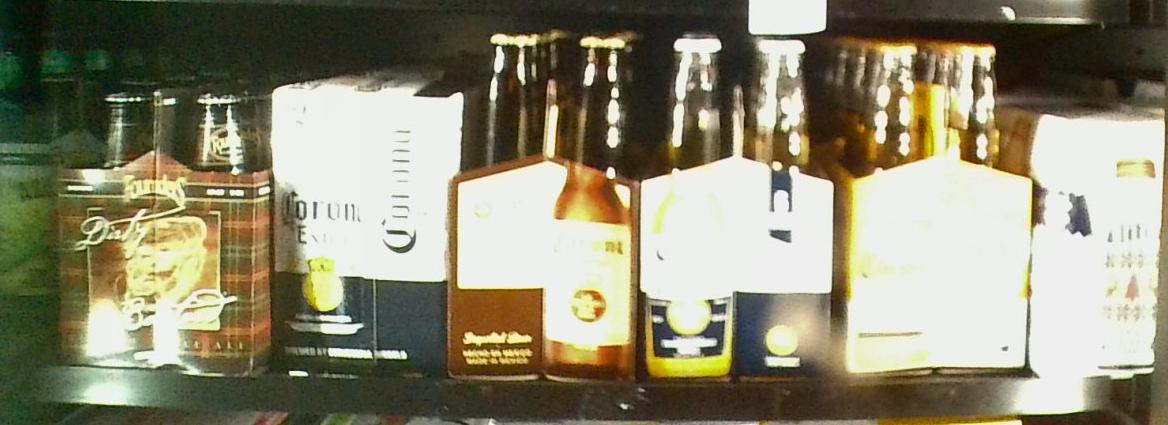bottle: (833, 29, 1030, 381), (640, 29, 832, 384), (54, 85, 272, 380), (456, 33, 639, 382), (272, 82, 447, 377), (1032, 116, 1161, 370)
